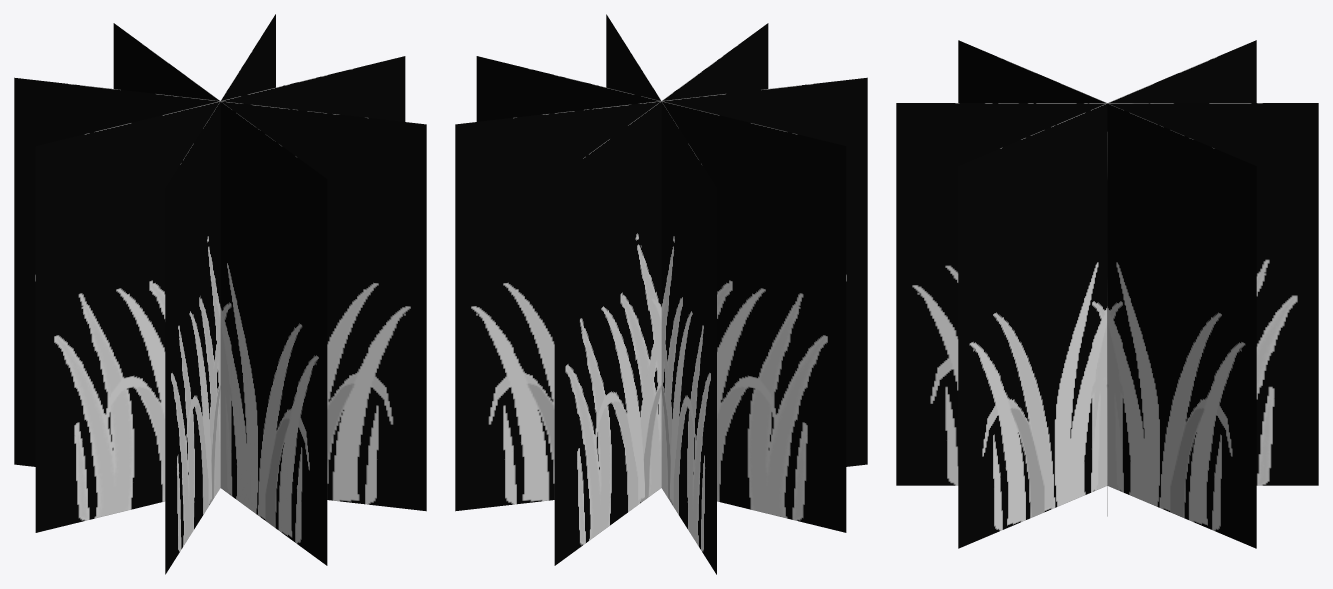
Rendered from grassA.fbx.
3 renders of one model, left to right at view 1: azimuth 30°, elevation 25°; view 2: azimuth 150°, elevation 25°; view 3: azimuth 270°, elevation 25°, orthographic.
Visible parts, largest first — view 1: Plane.001; view 2: Plane.001; view 3: Plane.001.
Part boxes in pixels (x1,y1,x2,y2): Plane.001: (14,14,426,574); Plane.001: (455,14,867,574); Plane.001: (896,40,1318,548).
Bounding box in the file's own units: 0.4 × 0.4 × 0.4.
